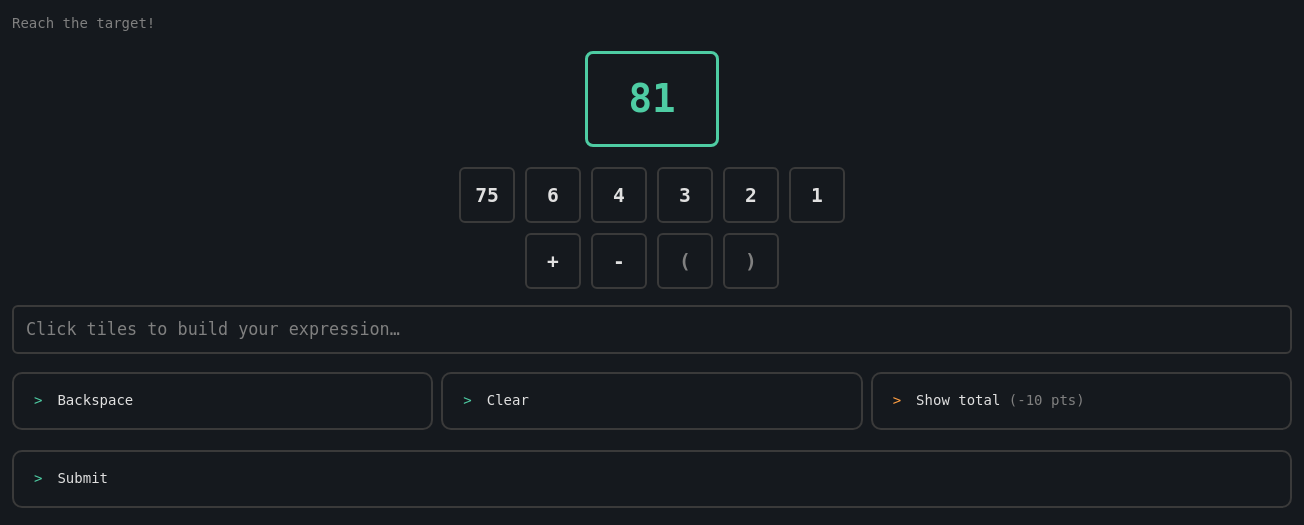
Scenario: CountdownPuzzle expression building › adds operator token when tile is clicked
Click the button with test id "number-tile-0" at (487, 195), box [459,167,515,223]
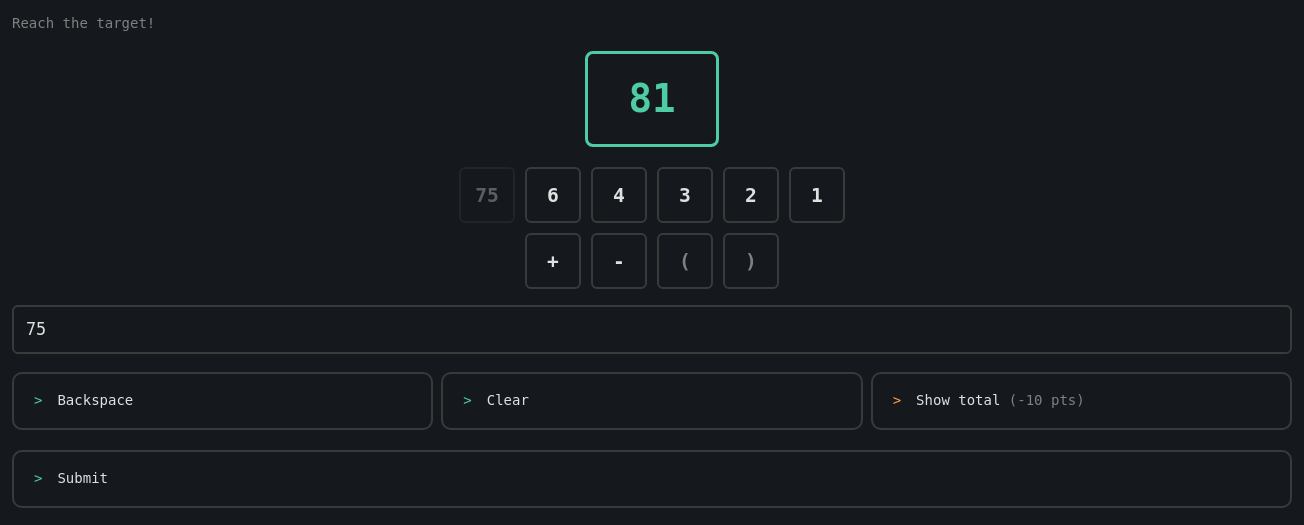
Click the button with test id "operator-tile-0" at (553, 261), box [525,233,581,289]
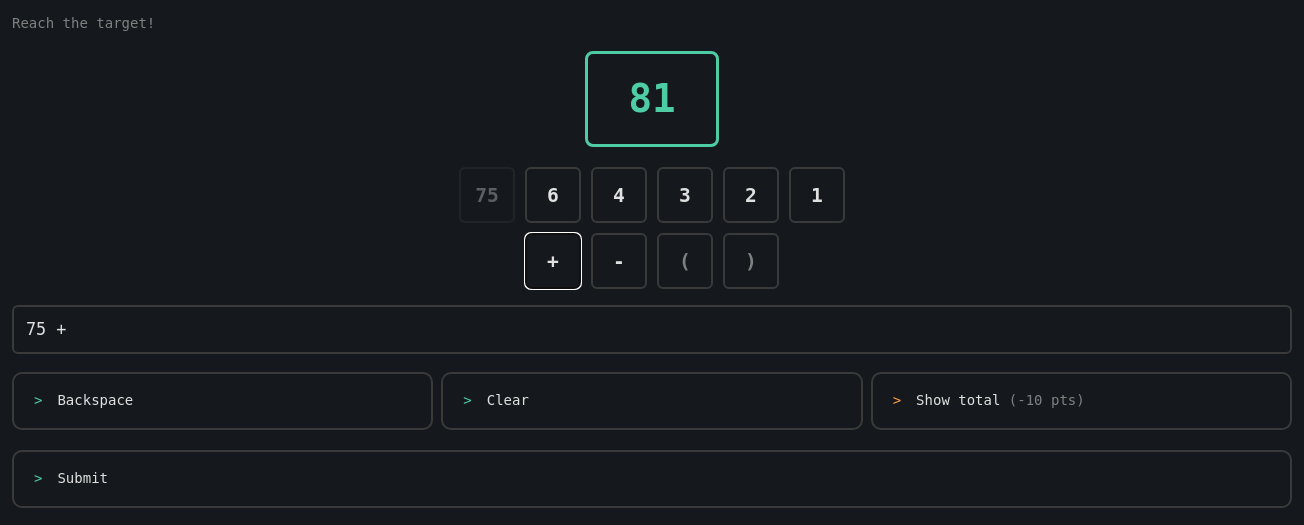
Now the element with test id "expression-display" reads "75 +", box [26,319,66,339]
